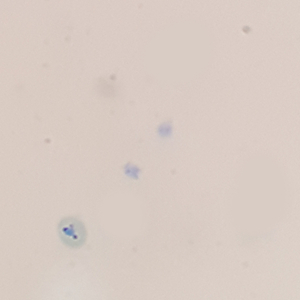erythrocyte: (55, 214, 90, 250)
